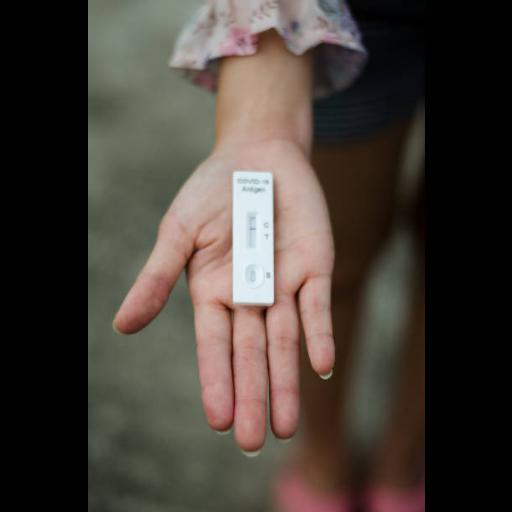Neg: (233, 172, 273, 304)
